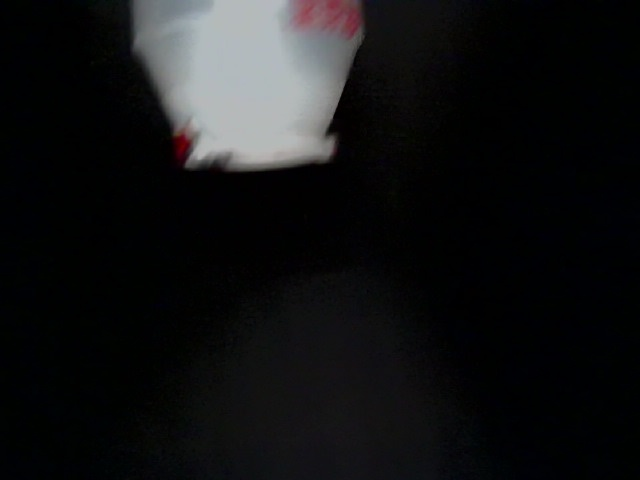CYLJ: (124, 473, 136, 478)
